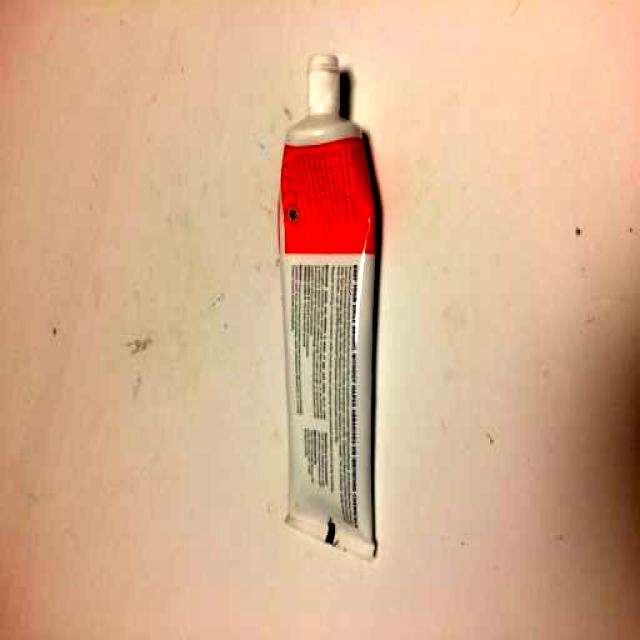Plastic: (280, 52, 380, 562)
